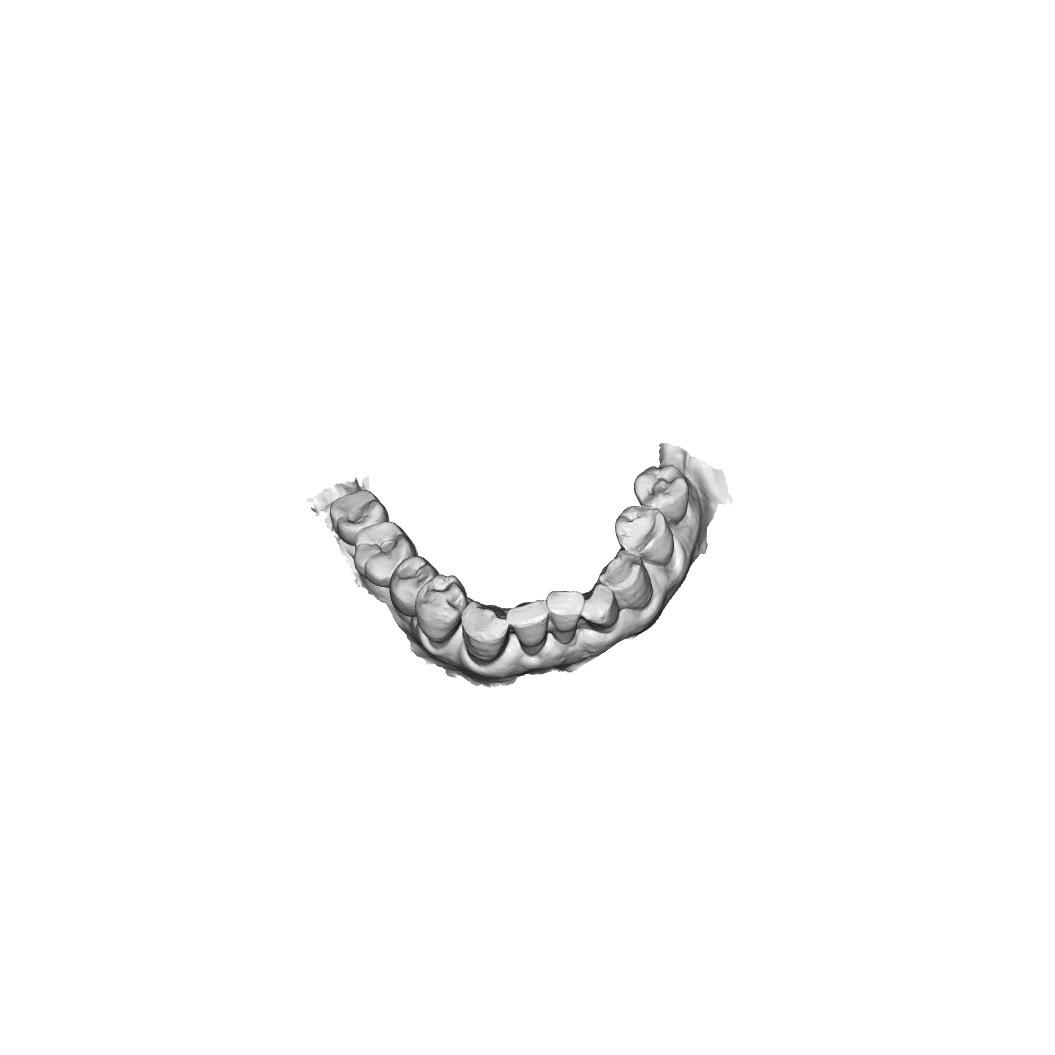canine: (457, 602, 510, 659), (603, 550, 654, 607)
incisor: (547, 590, 586, 647), (511, 601, 548, 655), (585, 581, 620, 628)
molar: (355, 523, 414, 584), (616, 507, 676, 563), (632, 467, 695, 520), (333, 487, 387, 547)
premolar: (416, 574, 464, 639), (389, 557, 441, 613)
